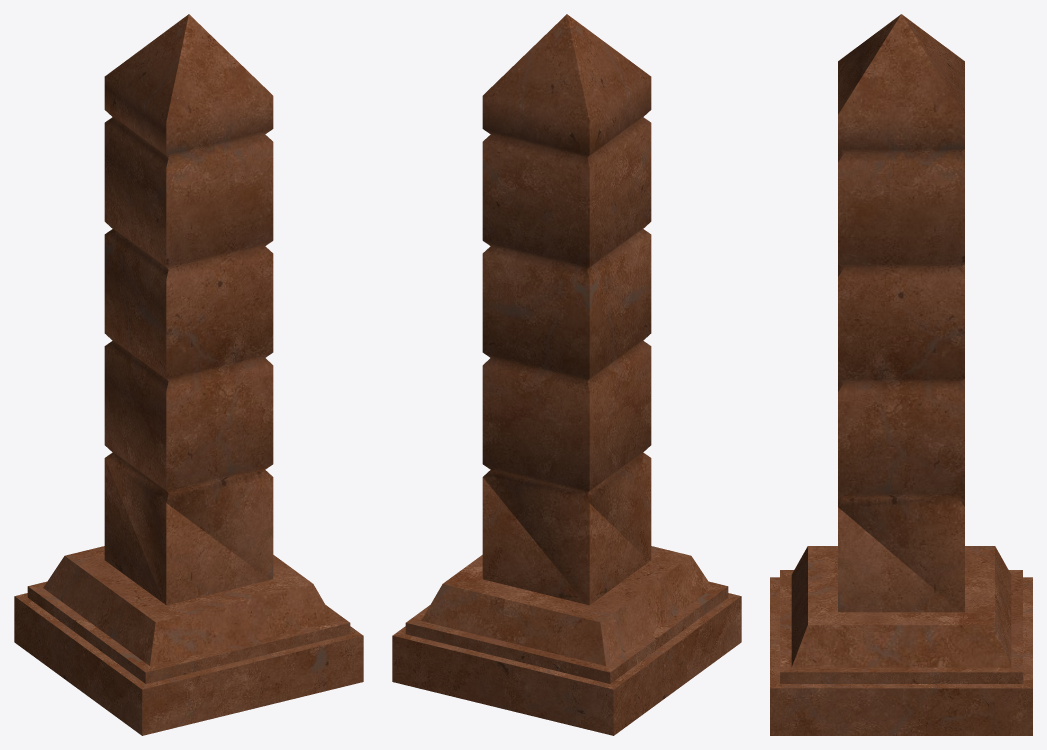
The model's file is obelisk_zerkal_512_01.glb.
The picture shows the model from 3 angles, left to right: view 1: azimuth 30°, elevation 25°; view 2: azimuth 150°, elevation 25°; view 3: azimuth 270°, elevation 25°; orthographic projection. The views are drawn at different scales.
Visible parts, largest first — view 1: obelisk_zerkal_512_01; view 2: obelisk_zerkal_512_01; view 3: obelisk_zerkal_512_01.
Part boxes in pixels (x1,y1,x2,y2): obelisk_zerkal_512_01: [14, 14, 363, 735]; obelisk_zerkal_512_01: [392, 14, 741, 735]; obelisk_zerkal_512_01: [770, 14, 1032, 735].
Size of the model in its own units: 1.04 by 2.9 by 1.04.
Materials: 1 (1 with a texture image).
